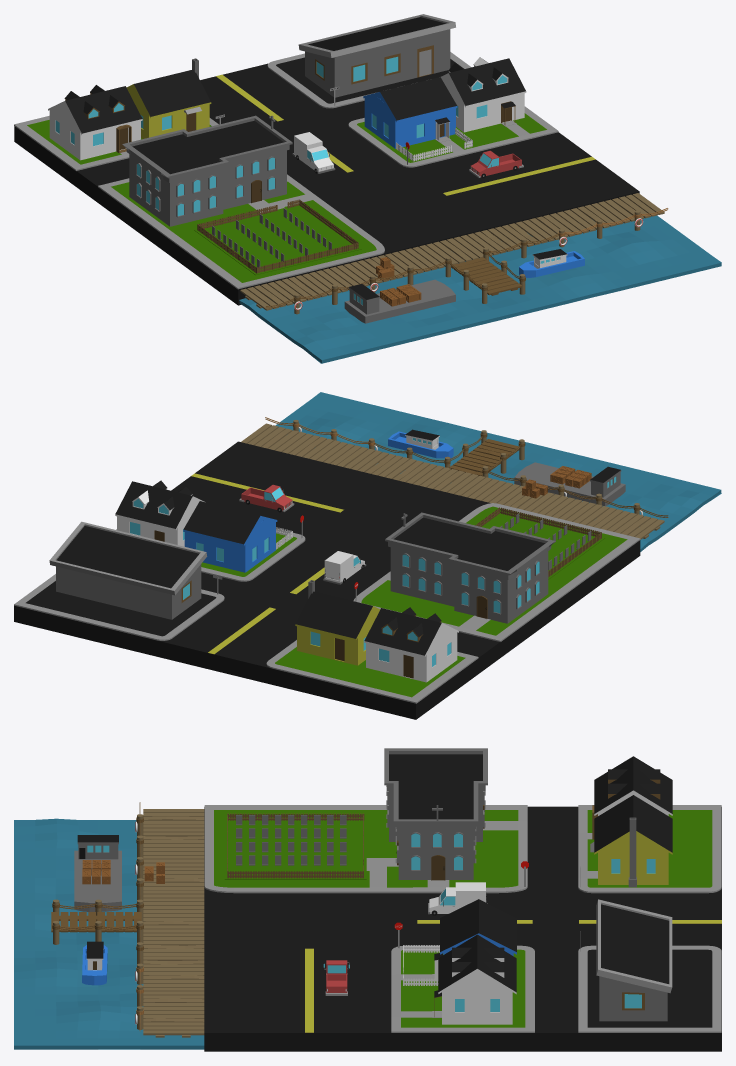
Rendered from port-town-jan2019.fbx.
3 views of the same model, one above another, from view 1: azimuth 30°, elevation 25°; view 2: azimuth 150°, elevation 25°; view 3: azimuth 270°, elevation 25° (orthographic). The views are drawn at different scales.
Parts seen in each view (by area): view 1: Cube.001; view 2: Cube.001; view 3: Cube.001.
Boxes of the visible parts, x1=… form: Cube.001: x1=14, y1=14, x2=721, y2=363; Cube.001: x1=14, y1=392, x2=721, y2=719; Cube.001: x1=14, y1=748, x2=721, y2=1051.
Bounding box in the file's own units: 3051 × 610 × 4020.
